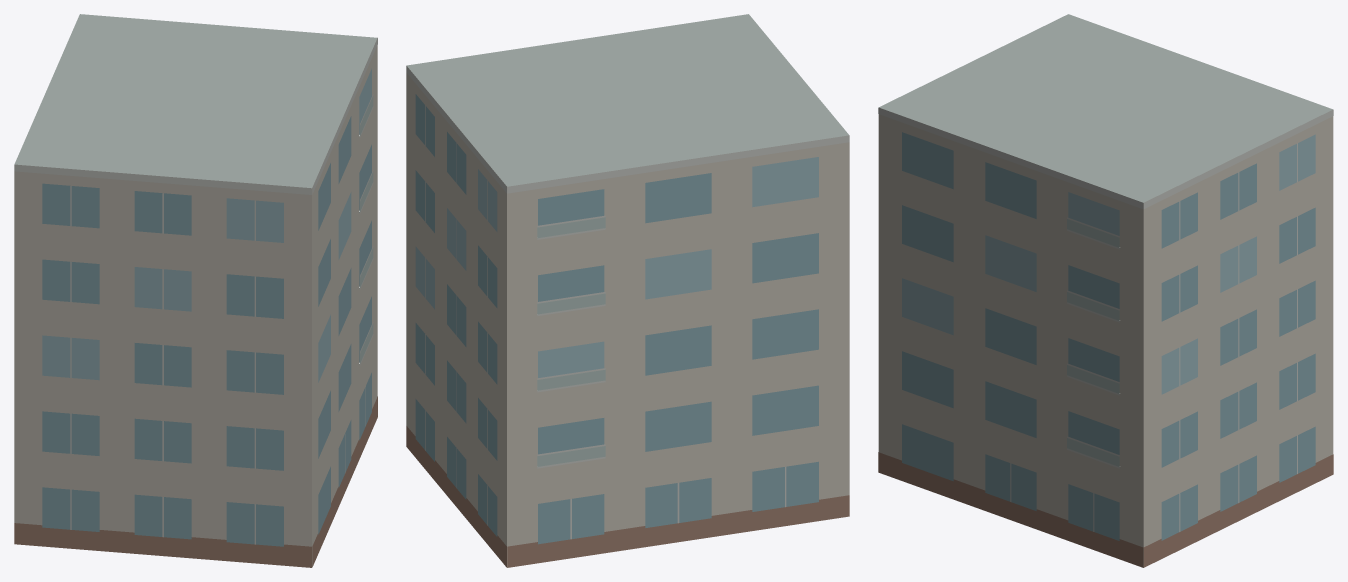
Rendered from survey-upis-33003393.glb.
The picture shows the model from 3 angles, left to right: view 1: azimuth 30°, elevation 25°; view 2: azimuth 150°, elevation 25°; view 3: azimuth 270°, elevation 25°; orthographic projection. The views are drawn at different scales.
Parts seen in each view (by area): view 1: survey-upis-33003393.tmp; view 2: survey-upis-33003393.tmp; view 3: survey-upis-33003393.tmp.
Part boxes in pixels (x1=…): survey-upis-33003393.tmp: x1=14, y1=14, x2=377, y2=567; survey-upis-33003393.tmp: x1=406, y1=14, x2=849, y2=567; survey-upis-33003393.tmp: x1=878, y1=14, x2=1333, y2=567.
Size of the model in its own units: 14.98 by 13.5 by 15.25.
